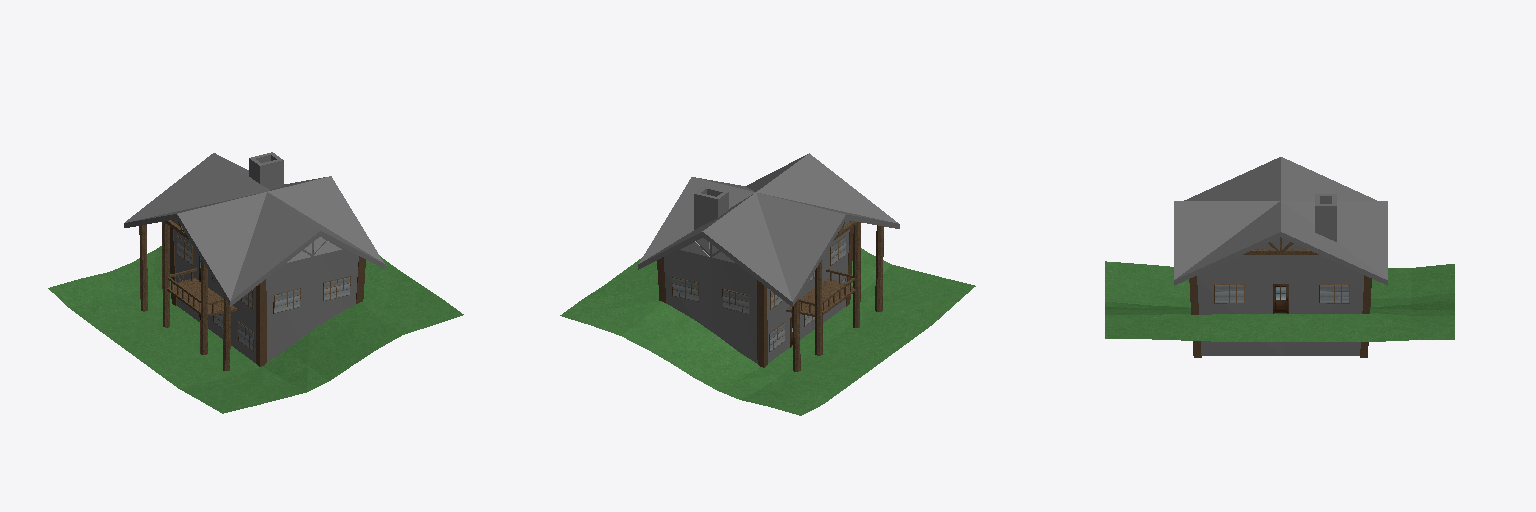
3 views of the same model, side by side, from view 1: azimuth 30°, elevation 25°; view 2: azimuth 150°, elevation 25°; view 3: azimuth 270°, elevation 25° (orthographic).
Visible parts, largest first — view 1: House_Untitled.008; view 2: House_Untitled.008; view 3: House_Untitled.008.
Part boxes in pixels (bbox=[...]): House_Untitled.008: bbox=[48, 152, 463, 413]; House_Untitled.008: bbox=[560, 153, 975, 415]; House_Untitled.008: bbox=[1105, 157, 1454, 357].
Size of the model in its own units: 8.19 by 4.66 by 10.26.
9 materials, 4 textured.